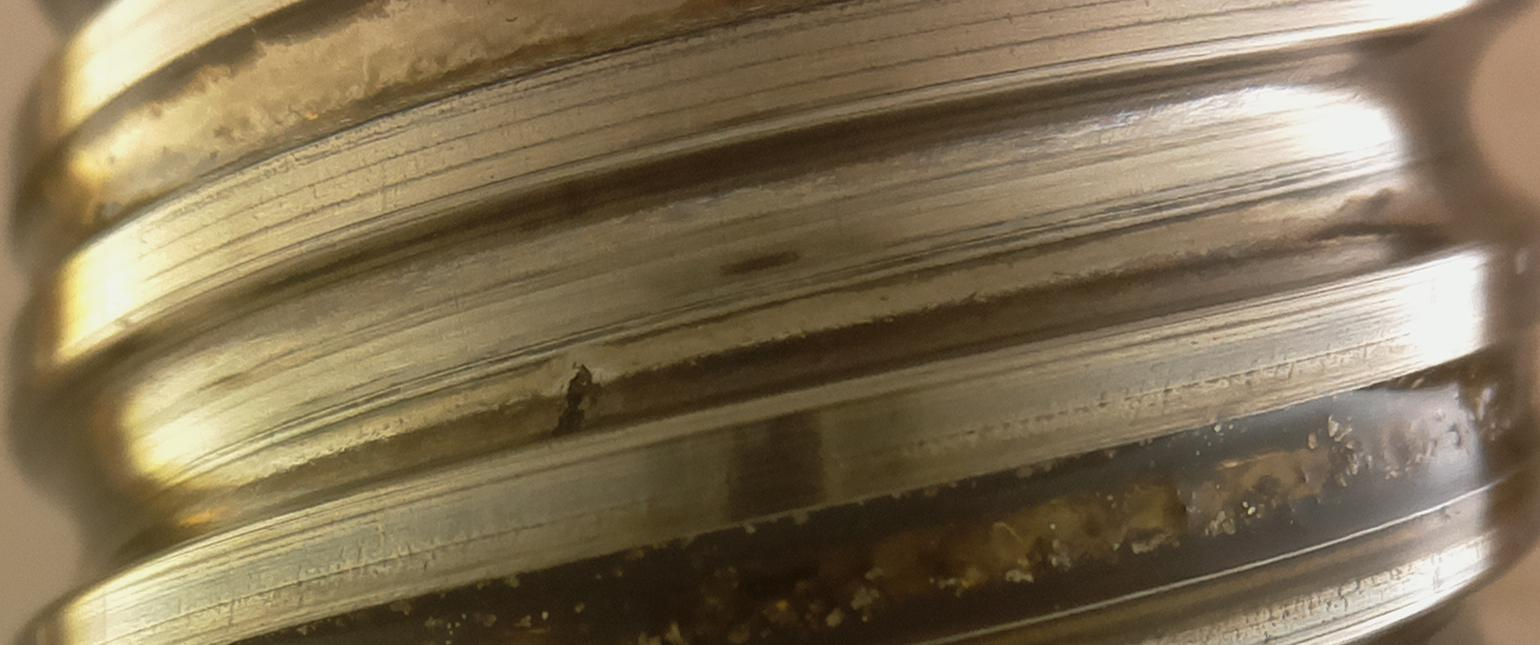pitting: (552, 364, 602, 437)
